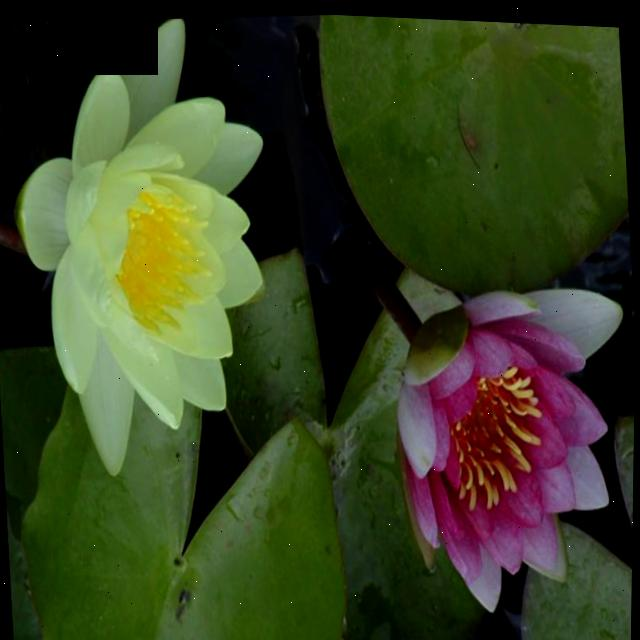water-lily: (0, 1, 330, 499), (349, 245, 637, 640)
